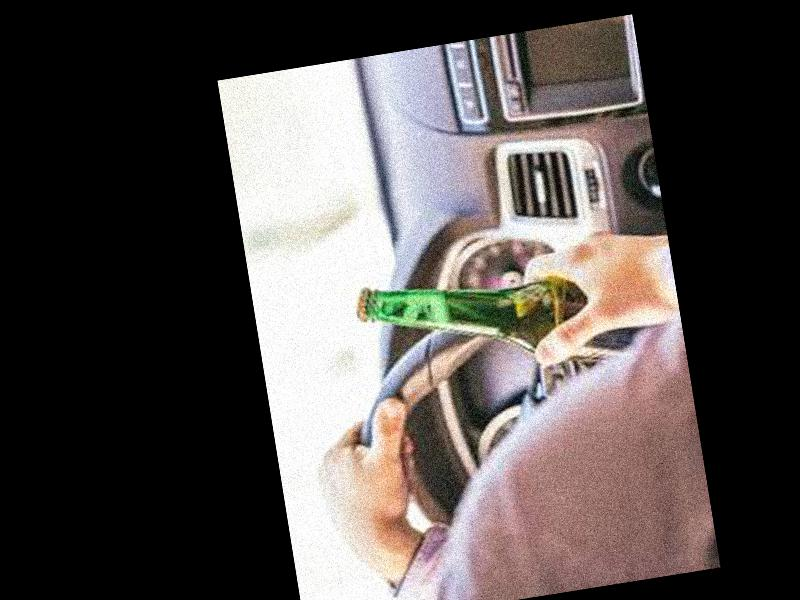Beer: (351, 243, 653, 397)
